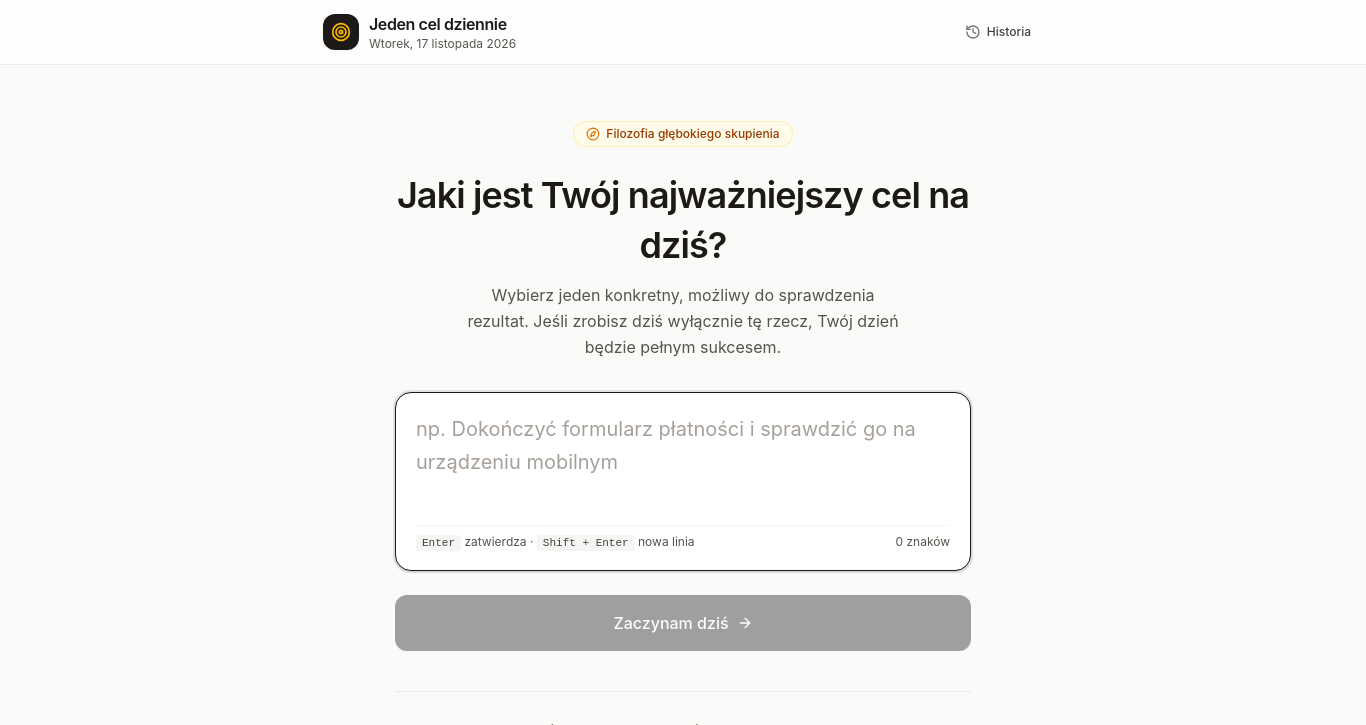
Test: przepływ: cel → postęp → refleksja → historia → CSV › powrót z podsumowania aktywnego celu wraca do widoku celu
In the text box named "Najważniejszy cel na dziś": (683, 462) [416,413,950,510], type "Cel w toku"
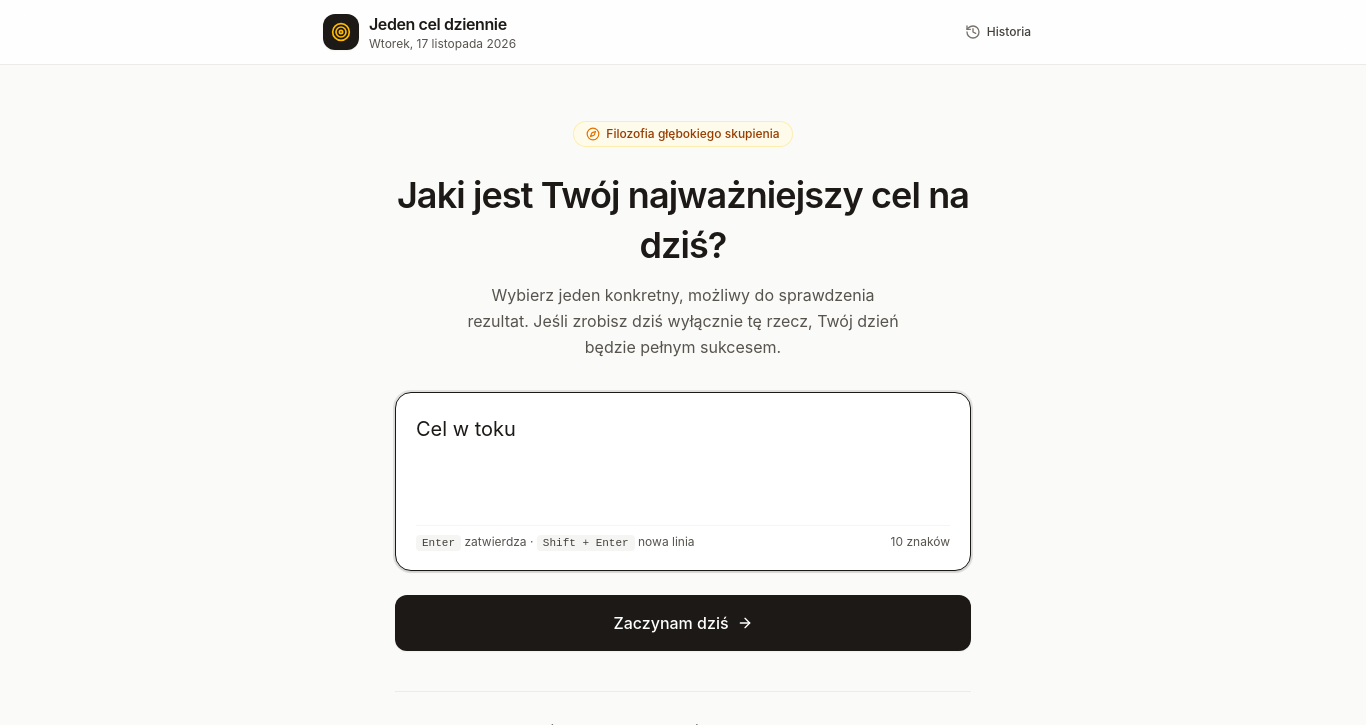
Click the button "Zaczynam dziś": (683, 623) [395,595,971,651]
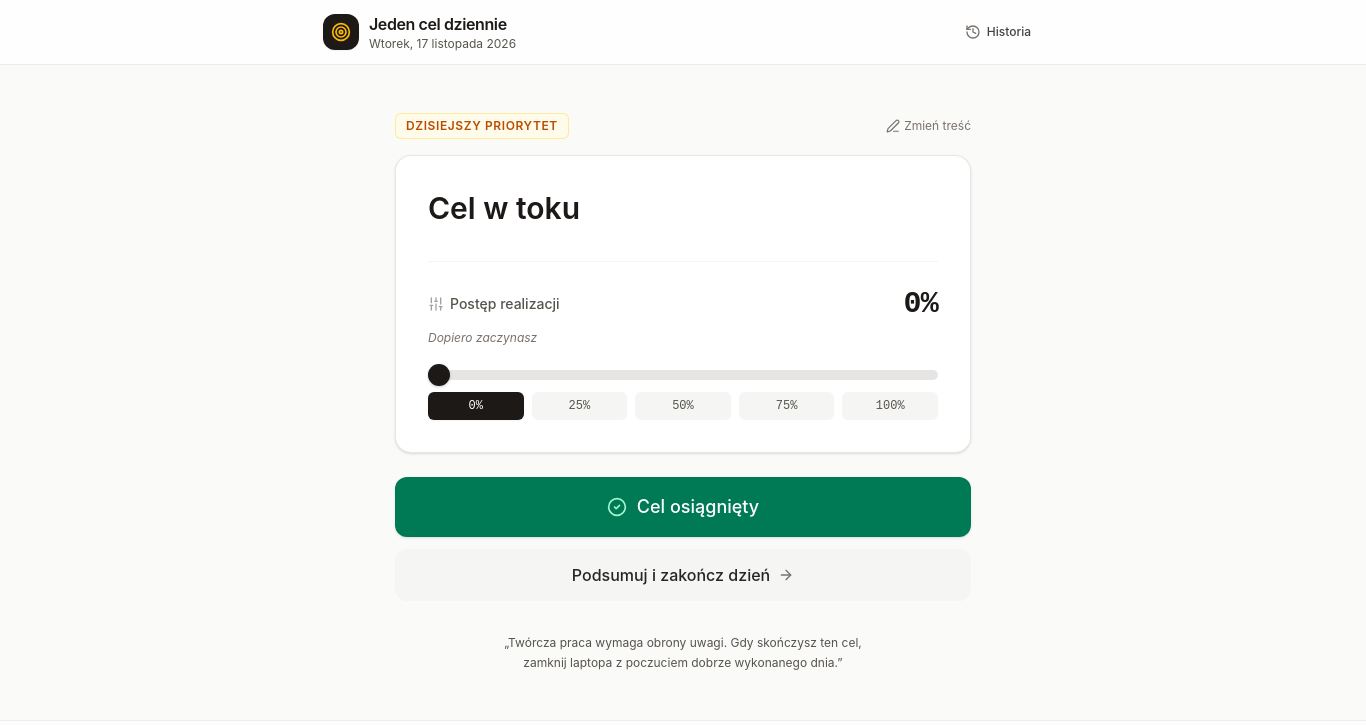
Click the button "Podsumuj i zakończ dzień": (683, 575) [395,549,971,601]
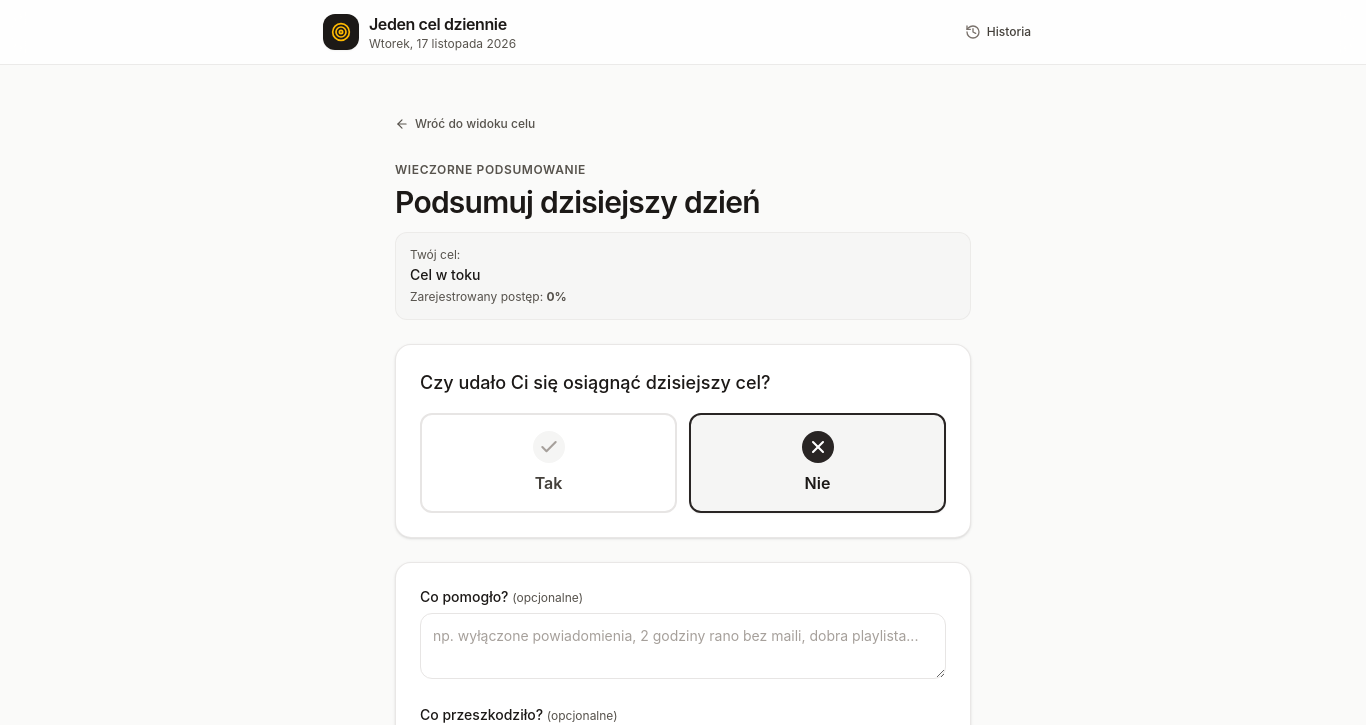
Click the button "Wróć do widoku celu": (465, 124) [395,116,535,132]
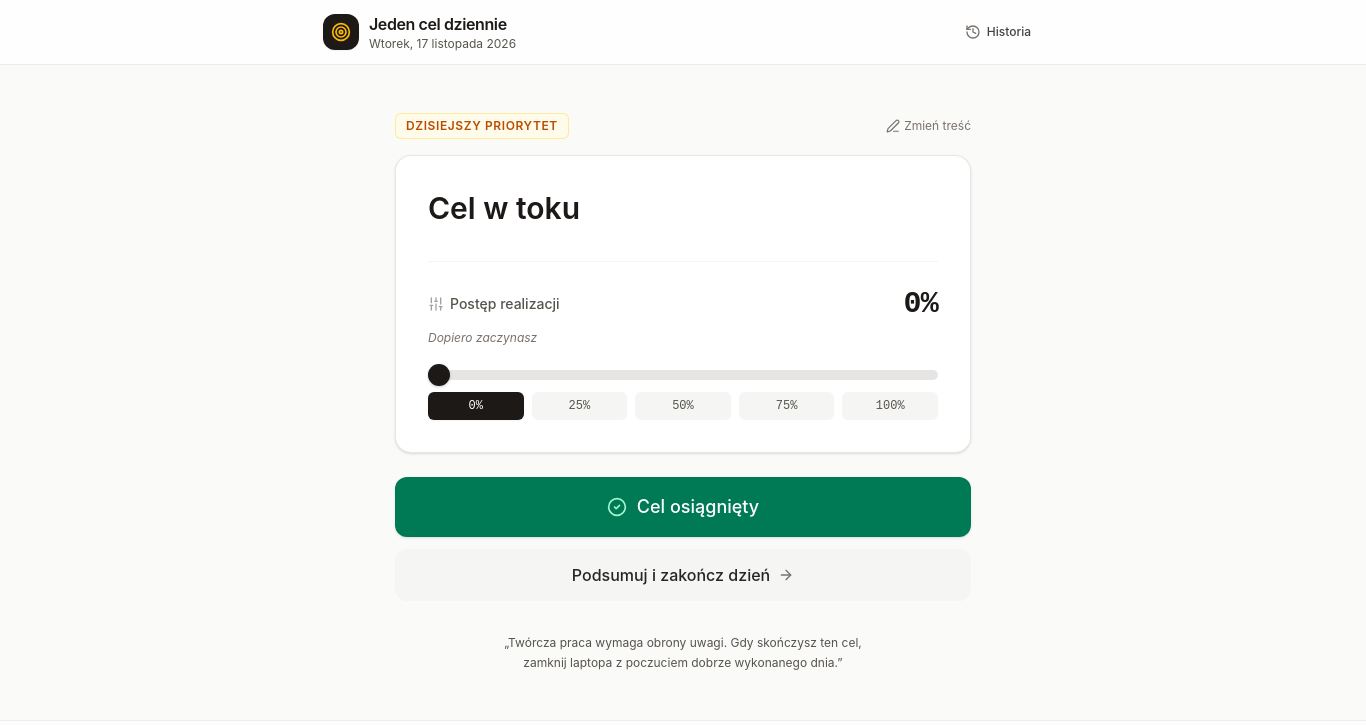
Check: the heading "Cel w toku" is shown, box [428,190,580,226]
Check: the button "Cel osiągnięty" is shown, box [395,477,971,537]
